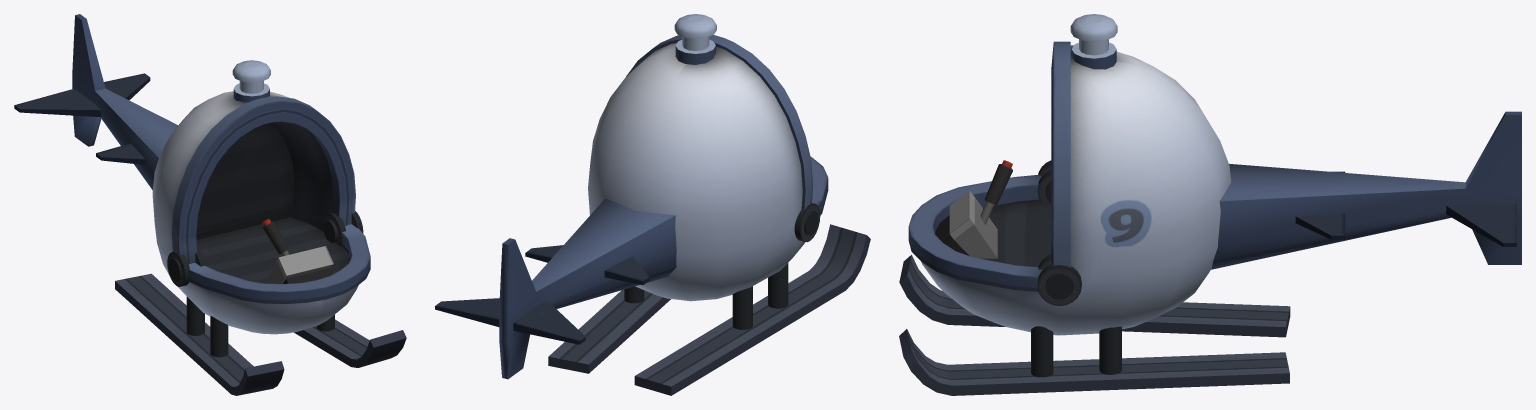
The model's file is Helicopter.fbx.
The picture shows the model from 3 angles, left to right: view 1: azimuth 30°, elevation 25°; view 2: azimuth 150°, elevation 25°; view 3: azimuth 270°, elevation 25°; orthographic projection. The views are drawn at different scales.
Visible parts, largest first — view 1: Helicopter; view 2: Helicopter; view 3: Helicopter.
Part boxes in pixels (x1=…): Helicopter: x1=14, y1=14, x2=406, y2=395; Helicopter: x1=435, y1=14, x2=870, y2=395; Helicopter: x1=899, y1=14, x2=1521, y2=395.
Size of the model in its own units: 2.28 by 3.24 by 5.5.
